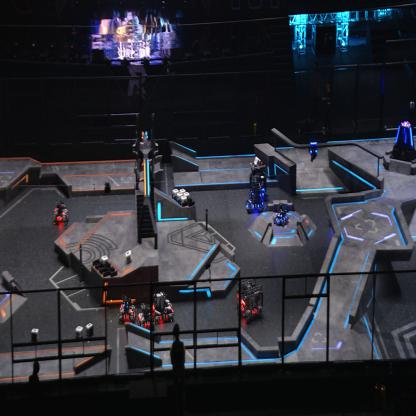car: (235, 277, 265, 324), (247, 162, 268, 202), (151, 290, 174, 324), (245, 179, 266, 212), (137, 300, 156, 332), (117, 294, 135, 324), (52, 198, 69, 226), (272, 200, 289, 226)
